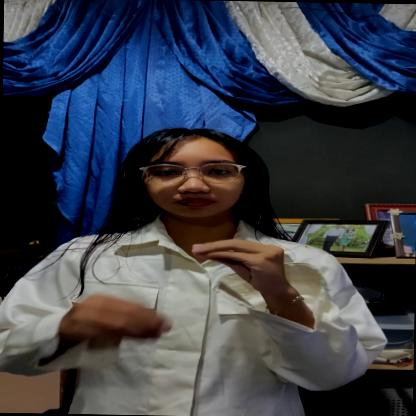Fix: (44, 226, 306, 376)
